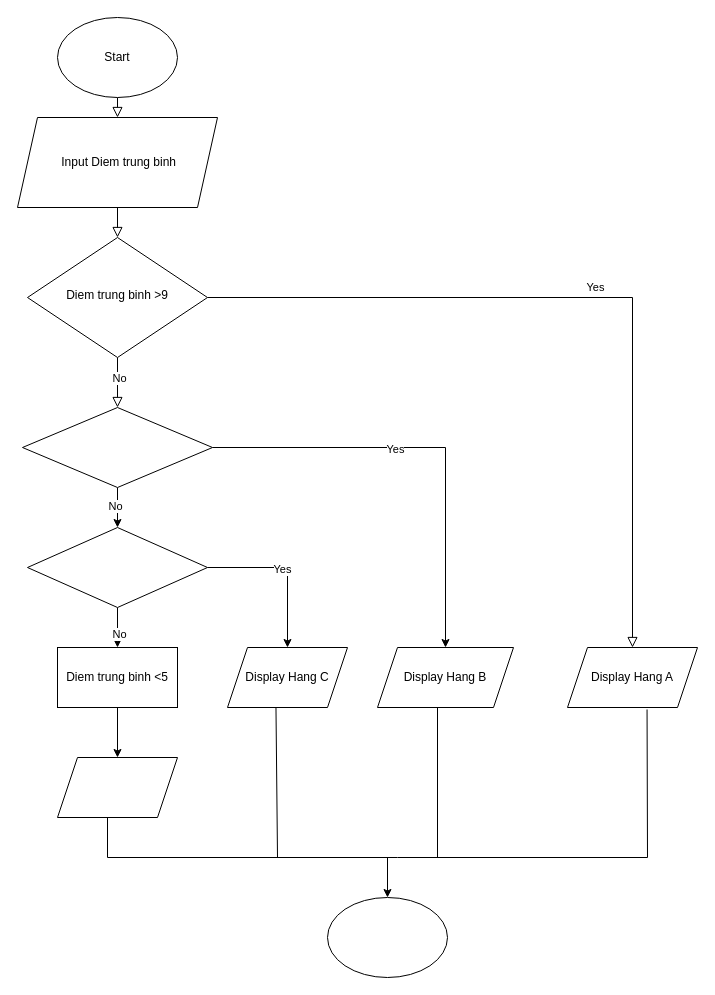
Image size: 715x995. Some labels were removed from this diagram. Each missing label, with the centre of its shape:
"5<=Diem trung binh <7" goes at (117,567).
"7<= Diem trung binh <9" goes at (117,447).
"Display Hang F" goes at (117,787).
"Stop" goes at (387,937).
